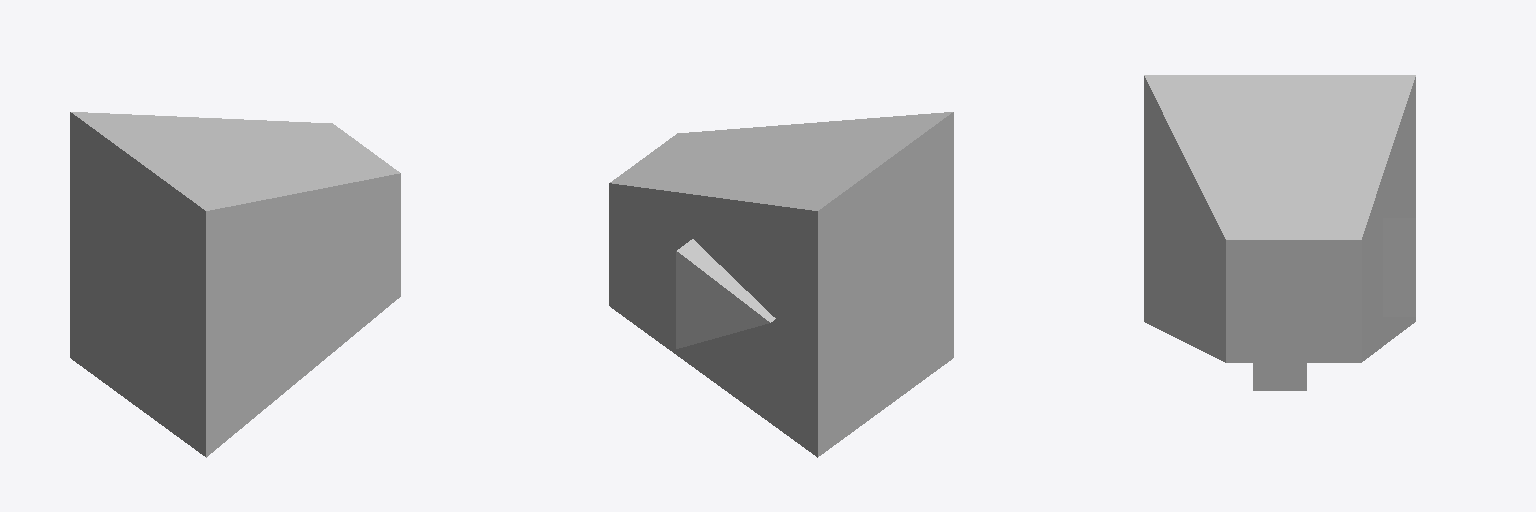
Rendered from thing-x-z.obj.
3 renders of one model, left to right at view 1: azimuth 30°, elevation 25°; view 2: azimuth 150°, elevation 25°; view 3: azimuth 270°, elevation 25°, orthographic.
Visible parts, largest first — view 1: Cube; view 2: Cube; view 3: Cube.
Part boxes in pixels (x1,y1,x2,y2): Cube: (70,112,400,457); Cube: (609,112,953,457); Cube: (1144,75,1415,390).
Size of the model in its own units: 1 by 1 by 1.